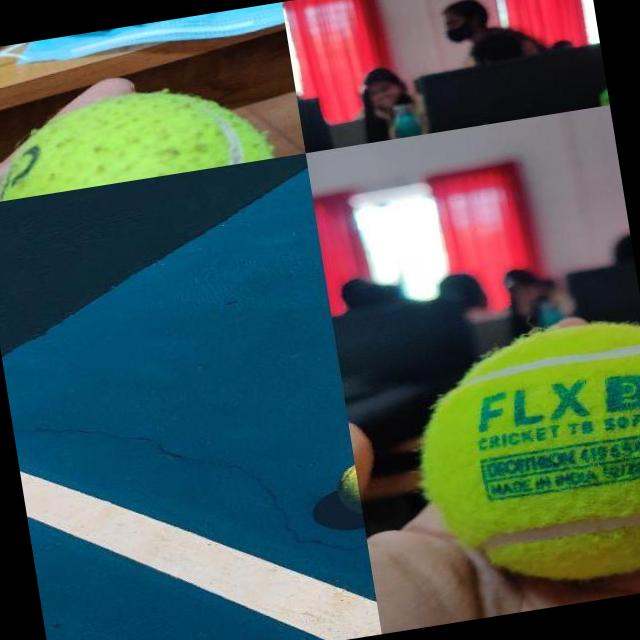tennis-ball: (401, 315, 640, 601), (0, 72, 276, 202), (333, 461, 362, 522)
